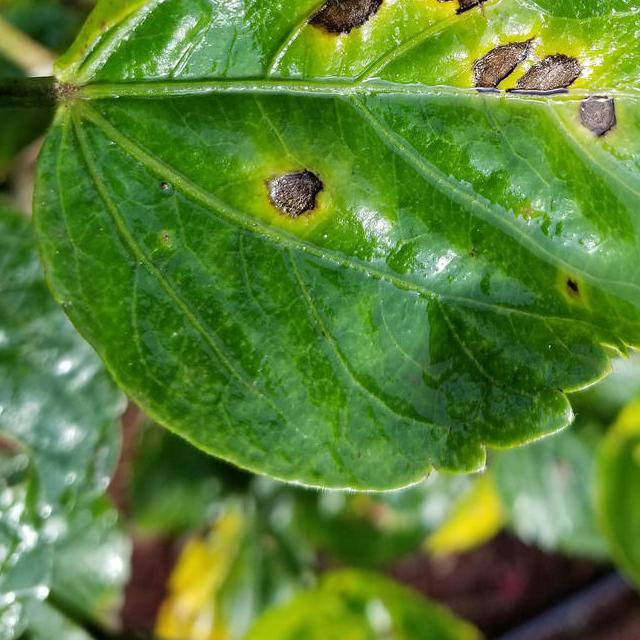Tomato leaf bacterial spot: (35, 0, 640, 504)
